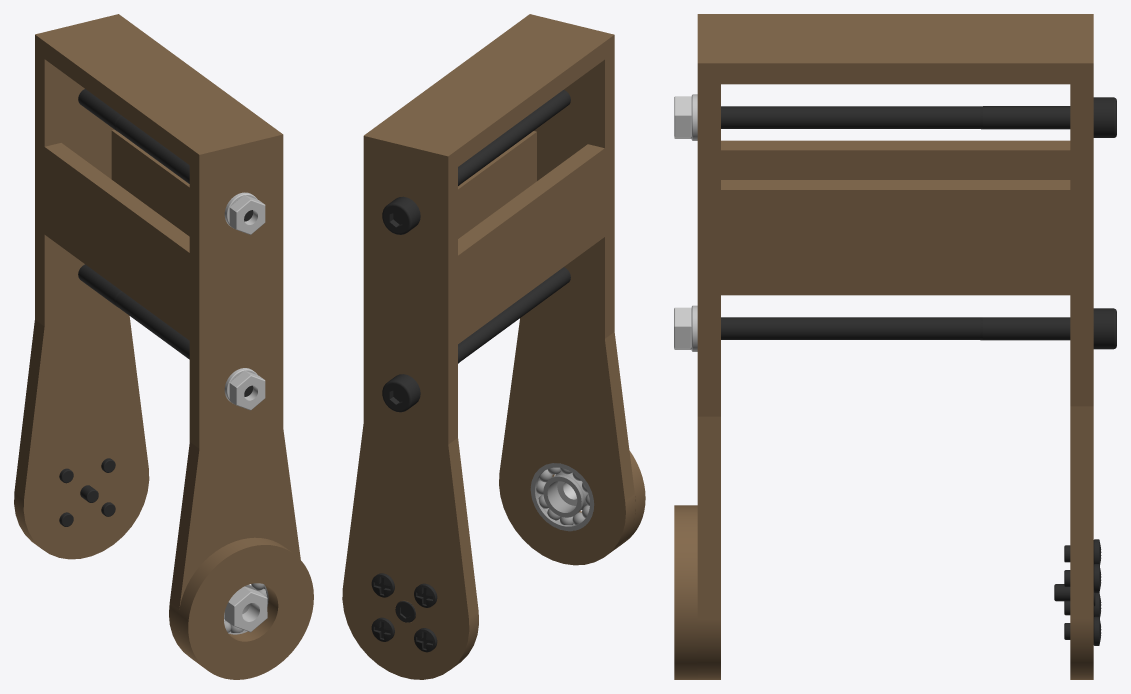
The model's file is wrist_link.dae.
3 views of the same model, side by side, from view 1: azimuth 30°, elevation 25°; view 2: azimuth 150°, elevation 25°; view 3: azimuth 270°, elevation 25° (orthographic). The views are drawn at different scales.
Parts seen in each view (by area): view 1: Body1 (×11); view 2: Body1 (×9), Body2; view 3: Body1 (×10).
Part boxes in pixels (bbox=[...]): Body1 (×11): bbox=[14, 14, 313, 679]; Body1 (×9): bbox=[342, 14, 645, 679]; Body2: bbox=[543, 471, 588, 517]; Body1 (×10): bbox=[674, 14, 1116, 679].
Size of the model in its own units: 0.03 by 0.076 by 0.12.
